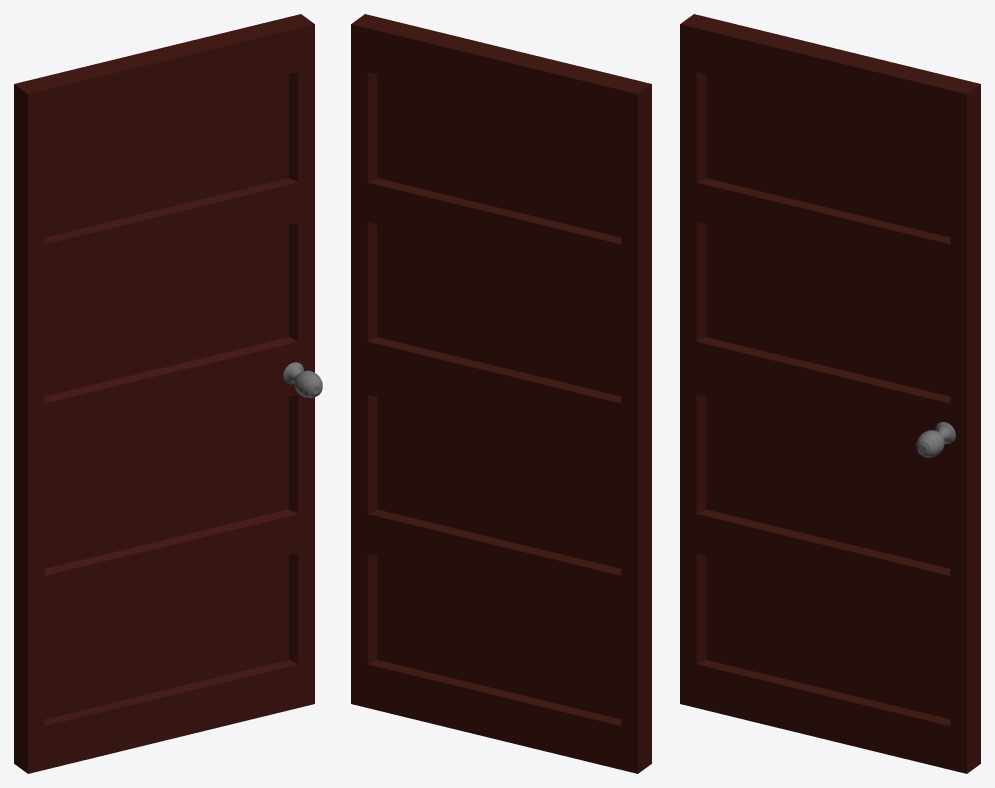
Rendered from CPI441_Fur_Door1_V2_O5.fbx.
3 views of the same model, side by side, from view 1: azimuth 30°, elevation 25°; view 2: azimuth 150°, elevation 25°; view 3: azimuth 330°, elevation 25° (orthographic).
Parts seen in each view (by area): view 1: Cube, Circle; view 2: Cube; view 3: Cube, Circle.
Part boxes in pixels (bbox=[...]): Cube: bbox=[14, 14, 314, 773]; Circle: bbox=[283, 362, 322, 398]; Cube: bbox=[351, 14, 651, 773]; Cube: bbox=[680, 14, 980, 773]; Circle: bbox=[916, 422, 955, 457].
Bounding box in the file's own units: 440 × 997 × 97.84.
